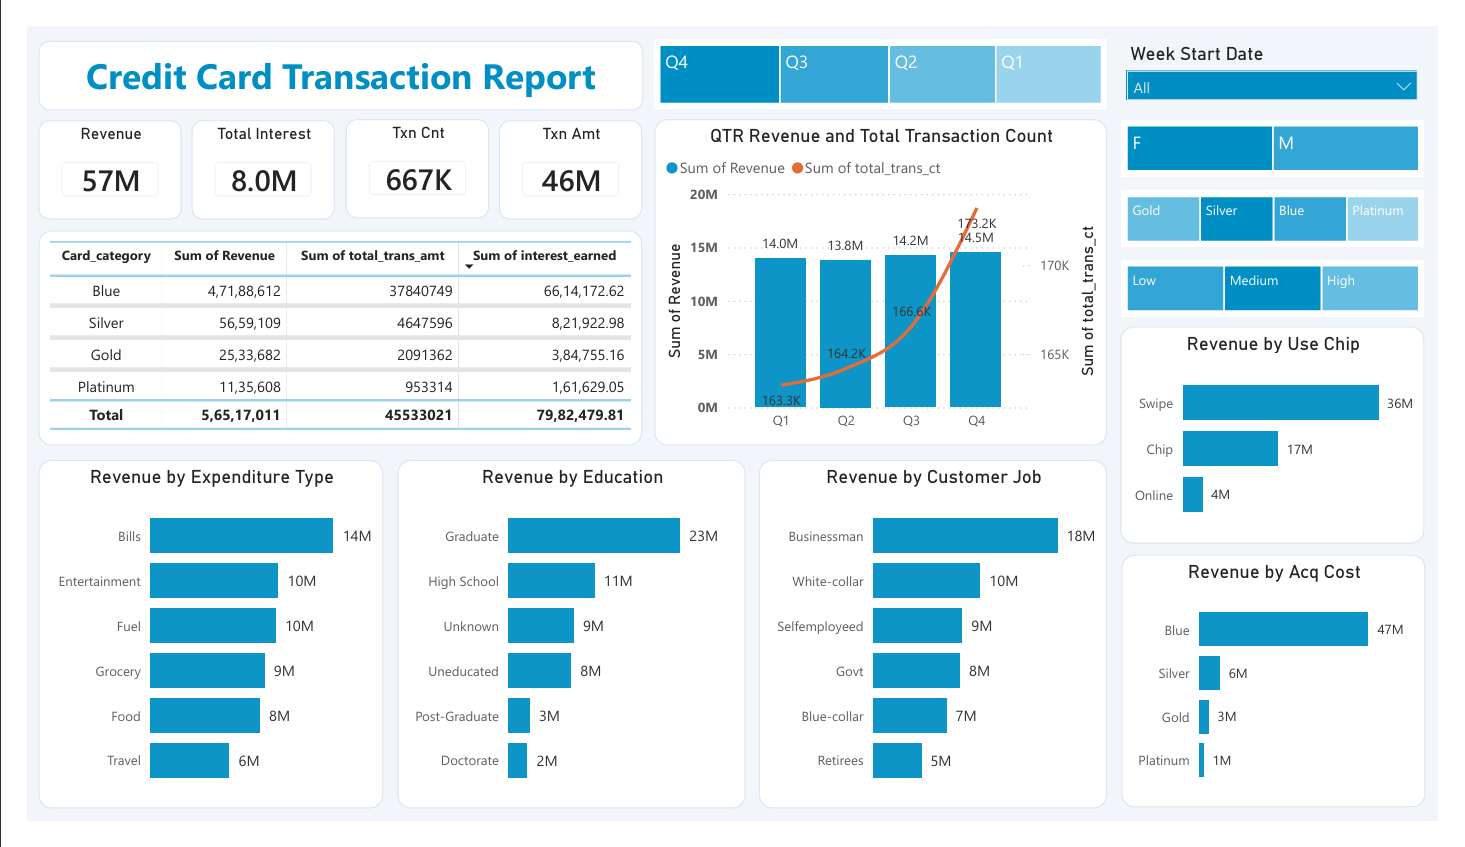

This screenshot's page, from the dashboard's own definition file:
{"tool":"powerbi","page":{"name":"CC_Transaction","canvas":[1280,720],"ordinal":1},"visuals":[{"type":"textbox","box":[10,12.9,548.6,62.9],"z":0},{"type":"lineStackedColumnComboChart","title":"QTR Revenue and Total Transaction Count","fields":{"Category":["public cc_detail.qtr"],"Y":["Sum(public cc_detail.Revenue)"],"Y2":["Sum(public cc_detail.total_trans_ct)"]},"box":[569.1,84,411.1,296.3],"z":1000},{"type":"barChart","title":"Revenue by Expenditure Type","fields":{"Y":["Sum(public cc_detail.Revenue)"],"Category":["public cc_detail.exp_type"]},"box":[9.9,392.6,313.6,316],"z":2000},{"type":"barChart","title":"Revenue by Education","fields":{"Y":["Sum(public cc_detail.Revenue)"],"Category":["public cust_detail.education_level"]},"box":[335.8,392.6,316,316],"z":3000},{"type":"barChart","title":"Revenue by Customer Job","fields":{"Y":["Sum(public cc_detail.Revenue)"],"Category":["public cust_detail.customer_job"]},"box":[664.2,392.6,316,316],"z":4000},{"type":"barChart","title":"Revenue by Acq Cost","fields":{"Y":["Sum(public cc_detail.Revenue)"],"Category":["public cc_detail.card_category"]},"box":[992.5,479.2,276.7,229.2],"z":5000},{"type":"barChart","title":"Revenue by Use Chip","fields":{"Y":["Sum(public cc_detail.Revenue)"],"Category":["public cc_detail.use_chip"]},"box":[992.4,272.4,275.3,196.5],"z":6000},{"type":"tableEx","fields":{"Values":["public cc_detail.card_category","Sum(public cc_detail.Revenue)","Sum(public cc_detail.total_trans_amt)","Sum(public cc_detail.interest_earned)"]},"box":[9.9,185.2,548.1,195.1],"z":7000},{"type":"cardVisual","title":"Revenue","fields":{"Data":["Sum(public cc_detail.Revenue)"]},"box":[10,85,130,90],"z":8000},{"type":"cardVisual","title":"Txn Amt","fields":{"Data":["Sum(public cc_detail.total_trans_amt)"]},"box":[428.2,84.5,130,90],"z":9000},{"type":"cardVisual","title":"Total Interest","fields":{"Data":["Sum(public cc_detail.interest_earned)"]},"box":[149.4,85.5,130,90],"z":10000},{"type":"cardVisual","title":"Txn Cnt","fields":{"Data":["Sum(public cc_detail.total_trans_ct)"]},"box":[288.9,84,130,90.1],"z":11000},{"type":"slicer","fields":{"Values":["public cc_detail.week_start_date"]},"box":[992.6,8.6,276.5,72.8],"z":12000},{"type":"treemap","fields":{"Group":["public cc_detail.qtr"],"Values":["Avg(public cc_detail.client_num)"]},"box":[569.1,12.3,411.1,63],"z":13000},{"type":"treemap","fields":{"Group":["public cust_detail.gender"],"Values":["Avg(public cc_detail.client_num)"]},"box":[992.6,85.2,275.3,50.6],"z":14000},{"type":"treemap","fields":{"Values":["Avg(public cc_detail.client_num)"],"Group":["public cc_detail.card_category"]},"box":[992.6,149.4,275.3,50.6],"z":15000},{"type":"treemap","fields":{"Values":["Avg(public cc_detail.client_num)"],"Group":["public cust_detail.IncomeGroup"]},"box":[992.6,212.3,275.3,50.6],"z":16000}]}

Visuals, with their boxes in screenshot pixels (x1, y1, x2, y2), scaled from the page's 1280x720 canvas onto the 1465x847 screenshot:
textbox: [11,15,639,89]
"QTR Revenue and Total Transaction Count" lineStackedColumnComboChart: [651,99,1122,447]
"Revenue by Expenditure Type" barChart: [11,462,370,834]
"Revenue by Education" barChart: [384,462,746,834]
"Revenue by Customer Job" barChart: [760,462,1122,834]
"Revenue by Acq Cost" barChart: [1136,564,1453,833]
"Revenue by Use Chip" barChart: [1136,320,1451,552]
tableEx - public cc_detail.card_category x Sum(public cc_detail.Revenue): [11,218,639,447]
"Revenue" cardVisual: [11,100,160,206]
"Txn Amt" cardVisual: [490,99,639,205]
"Total Interest" cardVisual: [171,101,320,206]
"Txn Cnt" cardVisual: [331,99,479,205]
slicer - public cc_detail.week_start_date: [1136,10,1453,96]
treemap - public cc_detail.qtr x Avg(public cc_detail.client_num): [651,14,1122,89]
treemap - public cust_detail.gender x Avg(public cc_detail.client_num): [1136,100,1451,160]
treemap - Avg(public cc_detail.client_num) x public cc_detail.card_category: [1136,176,1451,235]
treemap - Avg(public cc_detail.client_num) x public cust_detail.IncomeGroup: [1136,250,1451,309]
